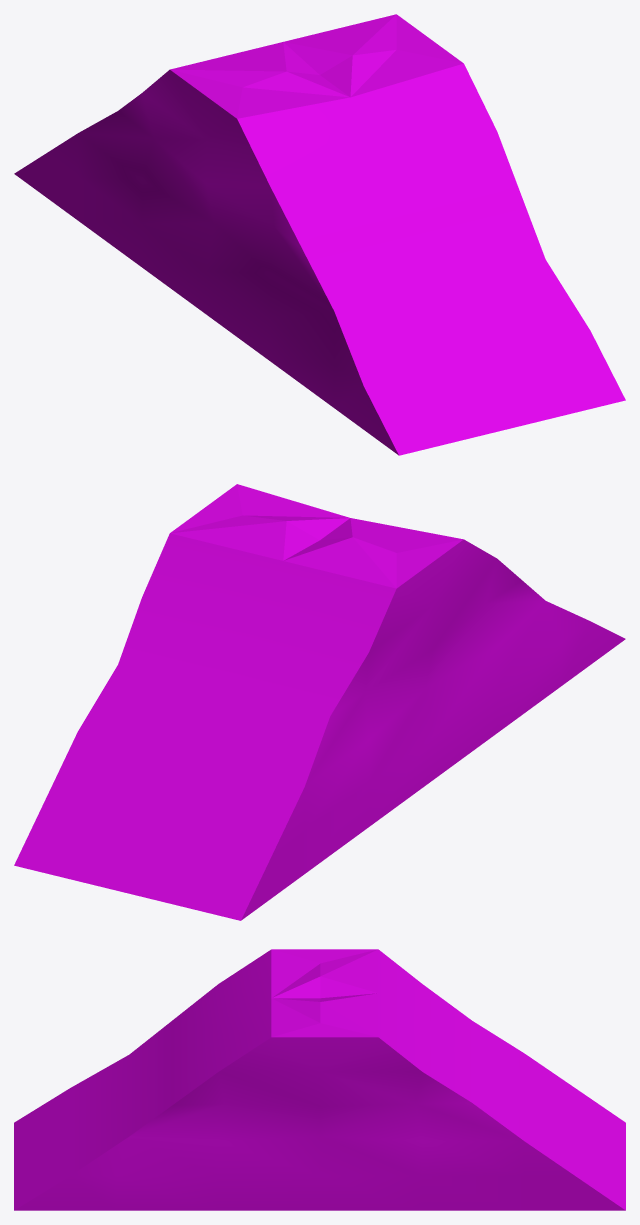
Rendered from wood log 0,5 v2.fbx.
The picture shows the model from 3 angles, top to bottom: view 1: azimuth 30°, elevation 25°; view 2: azimuth 150°, elevation 25°; view 3: azimuth 270°, elevation 25°; orthographic projection. The views are drawn at different scales.
Parts seen in each view (by area): view 1: wood log 0,5 v2; view 2: wood log 0,5 v2; view 3: wood log 0,5 v2.
Part boxes in pixels (left/top/right/bottom): wood log 0,5 v2: left=14, top=14, right=625, bottom=455; wood log 0,5 v2: left=14, top=484, right=625, bottom=920; wood log 0,5 v2: left=14, top=949, right=625, bottom=1210.
Size of the model in its own units: 0.17 by 0.16 by 0.5.
